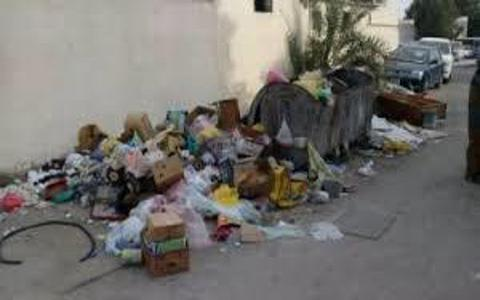overflowing garbage: (246, 77, 336, 204)
